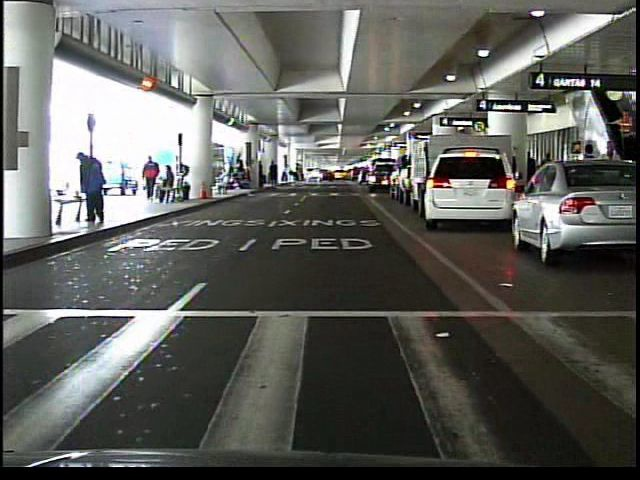person: (74, 149, 109, 225), (609, 105, 636, 166), (215, 168, 233, 202), (287, 163, 301, 192)
